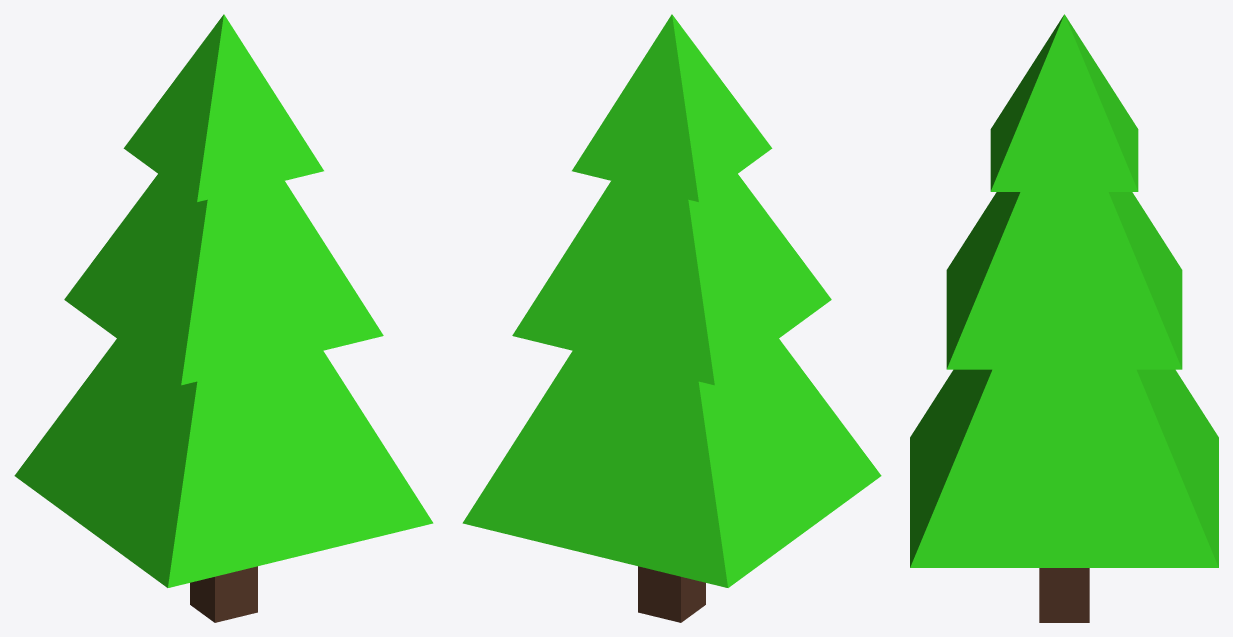
The model's file is tree1.gltf.
The picture shows the model from 3 angles, left to right: view 1: azimuth 30°, elevation 25°; view 2: azimuth 150°, elevation 25°; view 3: azimuth 270°, elevation 25°; orthographic projection.
Parts seen in each view (by area): view 1: Cube; view 2: Cube; view 3: Cube.
Boxes of the visible parts, box(x1,y1,x2,y2) form: Cube: box(14, 14, 433, 622); Cube: box(462, 14, 881, 622); Cube: box(910, 14, 1218, 622).
Size of the model in its own units: 2 by 4.28 by 2.
1 material, 1 textured.
